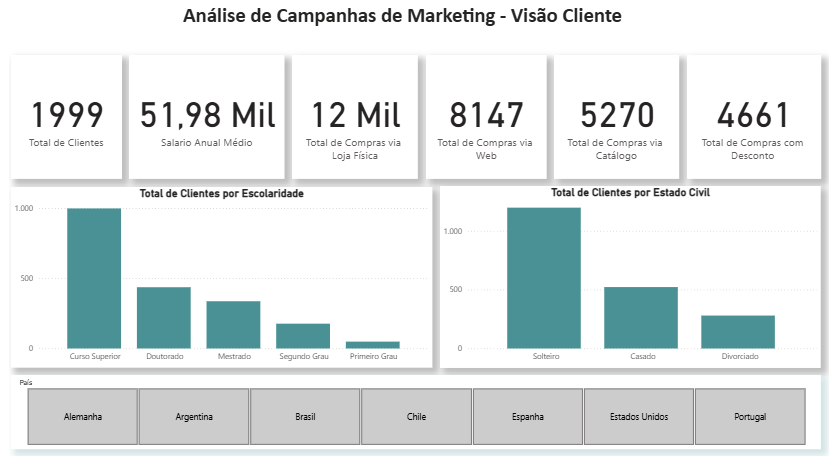

The page's visual inventory and layout, read from the dashboard file:
{"tool":"powerbi","page":{"name":"Visão Cliente","canvas":[1280,720],"ordinal":0},"visuals":[{"type":"card","fields":{"Values":["CountNonNull(DadosMarketing.ID)"]},"box":[11,97.6,171.6,192.1],"z":0},{"type":"card","fields":{"Values":["Avg(DadosMarketing.Salario Anual)"]},"box":[193.7,97.6,240.9,192.1],"z":1000},{"type":"card","fields":{"Values":["Sum(DadosMarketing.Numero de Compras na Loja)"]},"box":[445.6,97.6,195.2,192.1],"z":2000},{"type":"card","fields":{"Values":["Sum(DadosMarketing.Numero de Compras na Web)"]},"box":[653.4,97.6,187.4,192.1],"z":3000},{"type":"card","fields":{"Values":["Sum(DadosMarketing.Numero de Compras via Catalogo)"]},"box":[851.8,97.6,193.7,192.1],"z":4000},{"type":"card","fields":{"Values":["Sum(DadosMarketing.Numero de Compras com Desconto)"]},"box":[1058,97.6,207.8,192.1],"z":5000},{"type":"textbox","box":[72.4,11,1089.5,50.4],"z":6000},{"type":"clusteredColumnChart","title":"Total de Clientes por Escolaridade","fields":{"Category":["DadosMarketing.Escolaridade"],"Y":["CountNonNull(DadosMarketing.ID)"]},"box":[11,302.3,653.4,280.2],"z":7000},{"type":"clusteredColumnChart","title":"Total de Clientes por Estado Civil","fields":{"Category":["DadosMarketing.Estado Civil"],"Y":["CountNonNull(DadosMarketing.ID)"]},"box":[675.4,300.7,590.4,281.8],"z":8000},{"type":"slicer","fields":{"Values":["DadosMarketing.Pais"]},"box":[11,593.6,1254.8,114.9],"z":9000}]}

Visuals, with their boxes in screenshot pixels (x1, y1, x2, y2), scaled from the page's 1280x720 canvas onto the 830x457 screenshot:
card - CountNonNull(DadosMarketing.ID): region(7, 62, 118, 184)
card - Avg(DadosMarketing.Salario Anual): region(126, 62, 282, 184)
card - Sum(DadosMarketing.Numero de Compras na Loja): region(289, 62, 416, 184)
card - Sum(DadosMarketing.Numero de Compras na Web): region(424, 62, 545, 184)
card - Sum(DadosMarketing.Numero de Compras via Catalogo): region(552, 62, 678, 184)
card - Sum(DadosMarketing.Numero de Compras com Desconto): region(686, 62, 821, 184)
textbox: region(47, 7, 753, 39)
"Total de Clientes por Escolaridade" clusteredColumnChart: region(7, 192, 431, 370)
"Total de Clientes por Estado Civil" clusteredColumnChart: region(438, 191, 821, 370)
slicer - DadosMarketing.Pais: region(7, 377, 821, 450)
